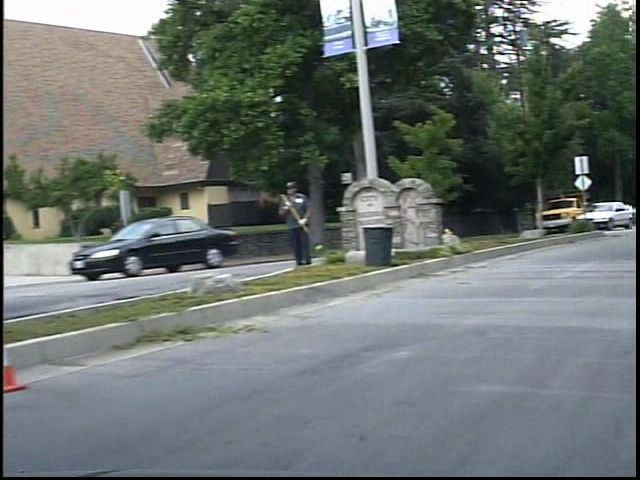person: (286, 177, 327, 268)
